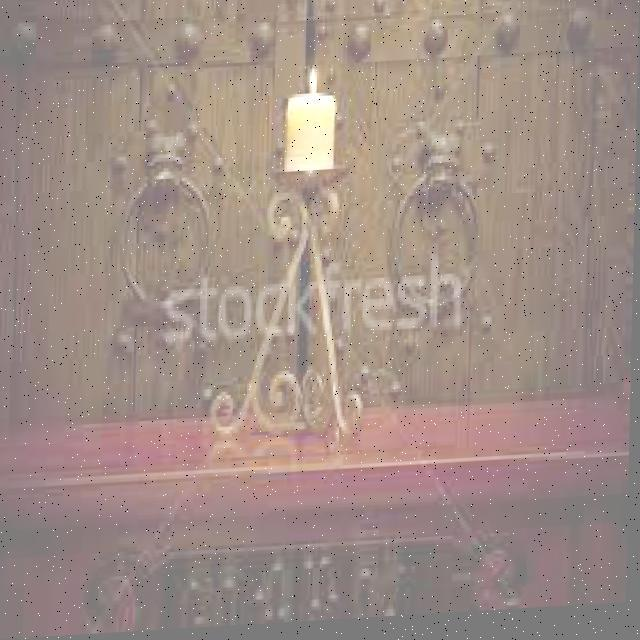Fire: (303, 55, 320, 101)
